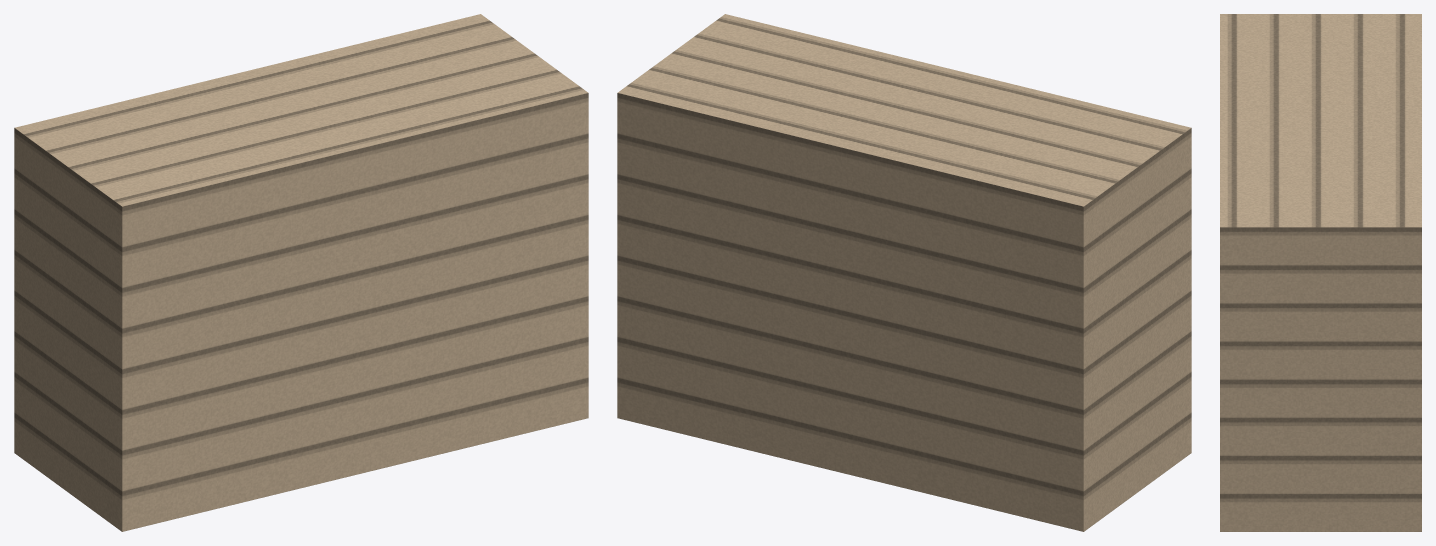
The model's file is checkout_sales_counter.glb.
The picture shows the model from 3 angles, left to right: view 1: azimuth 30°, elevation 25°; view 2: azimuth 150°, elevation 25°; view 3: azimuth 270°, elevation 25°; orthographic projection. The views are drawn at different scales.
Parts seen in each view (by area): view 1: checkout_sales_counter-col; view 2: checkout_sales_counter-col; view 3: checkout_sales_counter-col.
Boxes of the visible parts, x1,y1,x2,y2 form: checkout_sales_counter-col: (14, 14, 588, 531); checkout_sales_counter-col: (617, 14, 1191, 531); checkout_sales_counter-col: (1220, 14, 1421, 531).
Size of the model in its own units: 1.5 by 1 by 0.6.
Materials: 1 (1 with a texture image).
